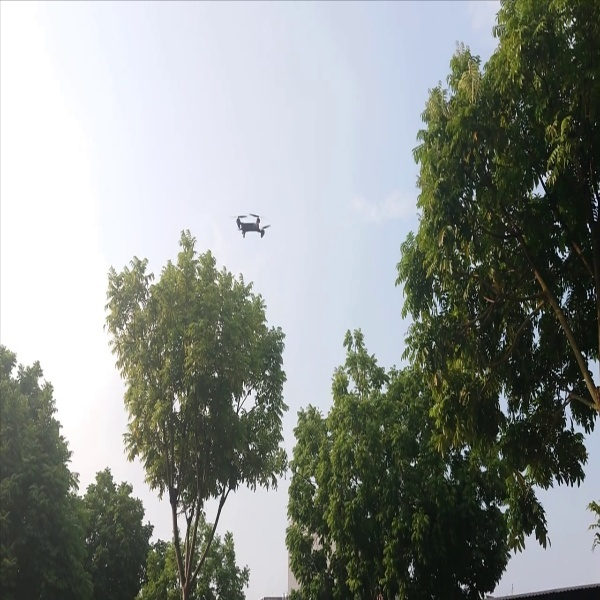drone: (229, 203, 273, 241)
